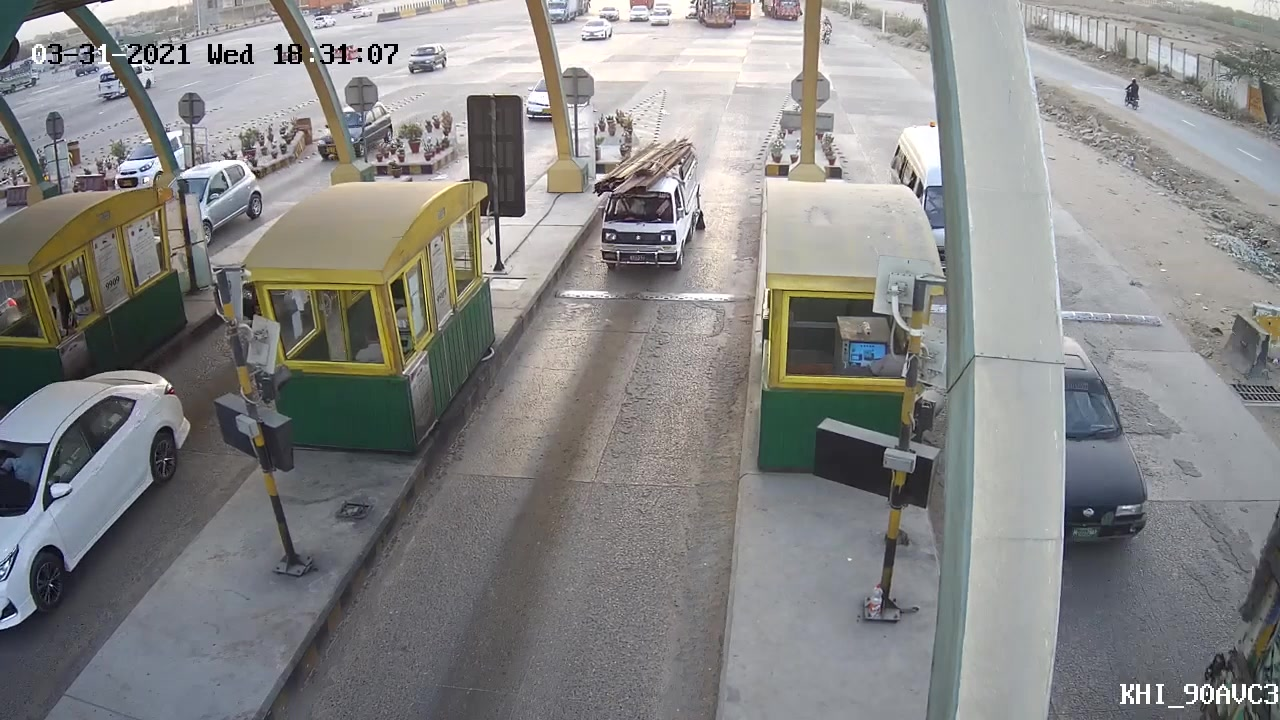F1: (591, 135, 714, 279)
